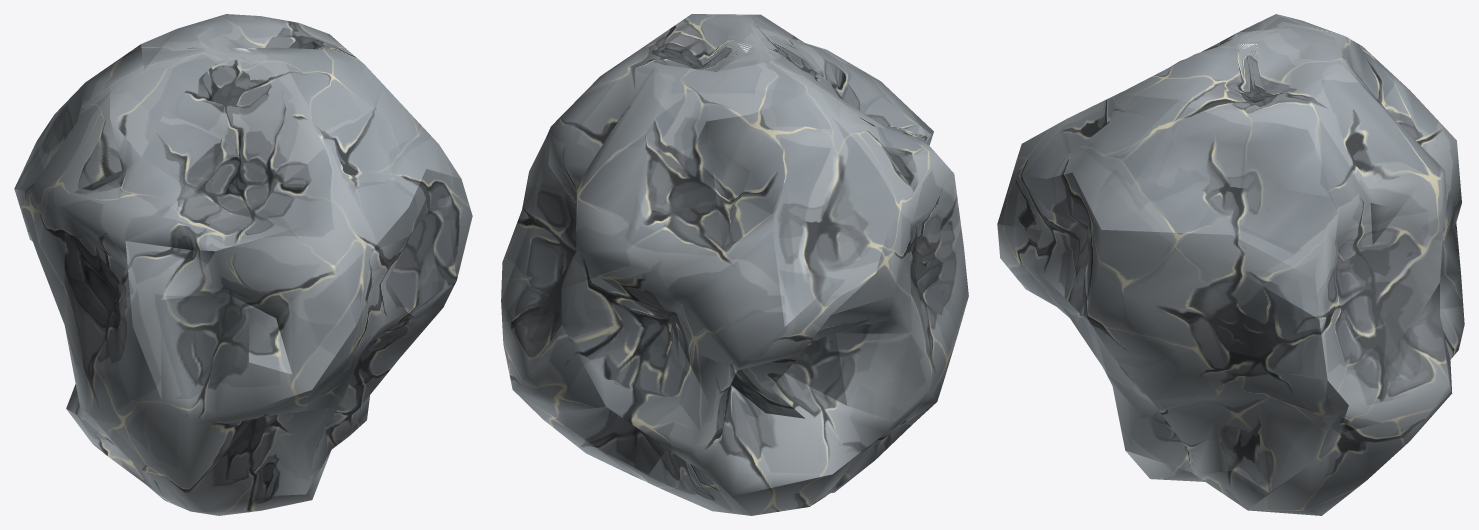
File: asteroid_final1.fbx
3 views of the same model, side by side, from view 1: azimuth 30°, elevation 25°; view 2: azimuth 150°, elevation 25°; view 3: azimuth 270°, elevation 25° (orthographic).
Parts seen in each view (by area): view 1: asteroid1; view 2: asteroid1; view 3: asteroid1.
Part boxes in pixels (x1,y1,x2,y2): asteroid1: [14, 14, 472, 515]; asteroid1: [501, 14, 968, 515]; asteroid1: [997, 14, 1464, 515].
Bounding box in the file's own units: 172 × 194 × 182.
